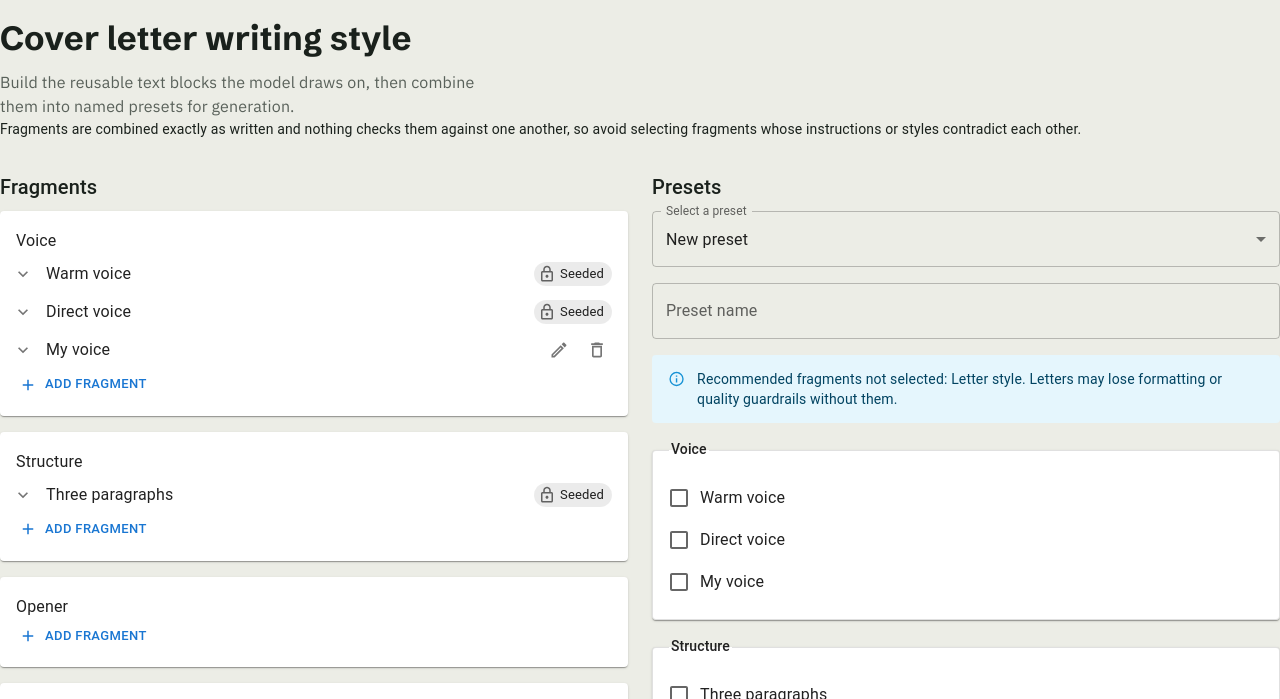
it: WritingStylePage › disables Save when a seeded preset is selected
Expected: the 1st text "Warm voice" is shown, [46,264,131,283]
Press the mouse on the dropdown: x=707, y=239 [666,230,748,249]
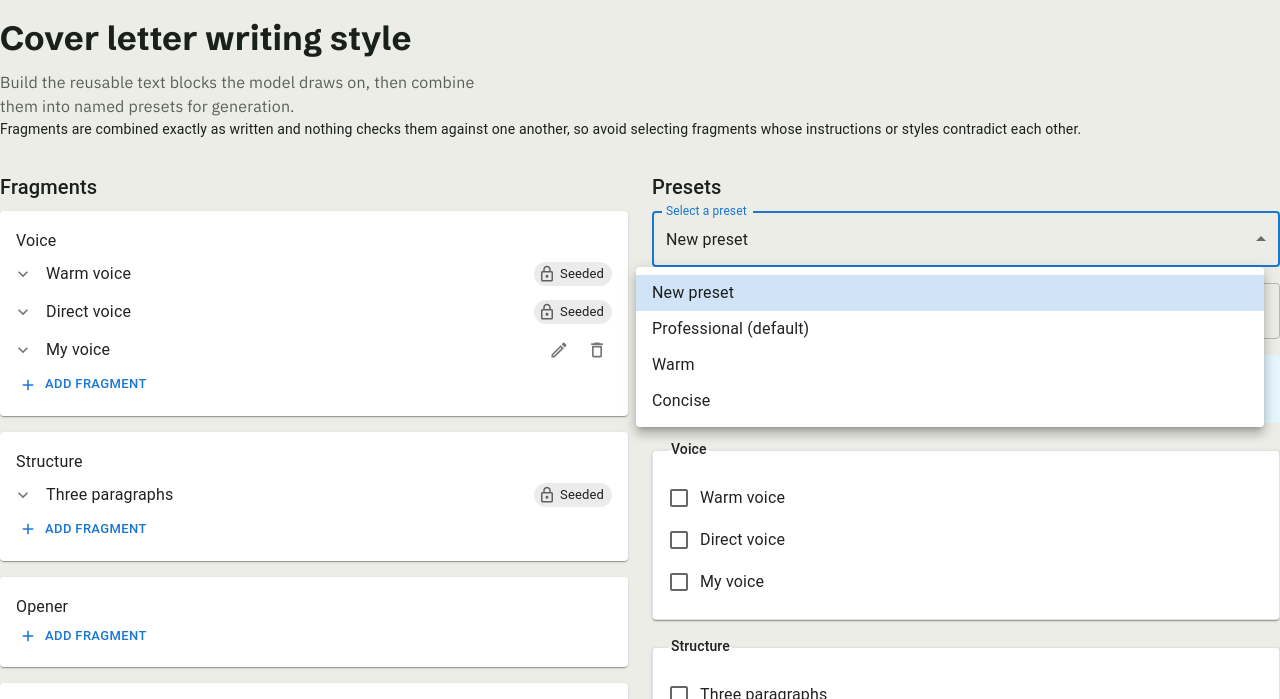
Click the option "Professional (default)": x=731, y=328 [652,319,809,338]
(page scrolled)
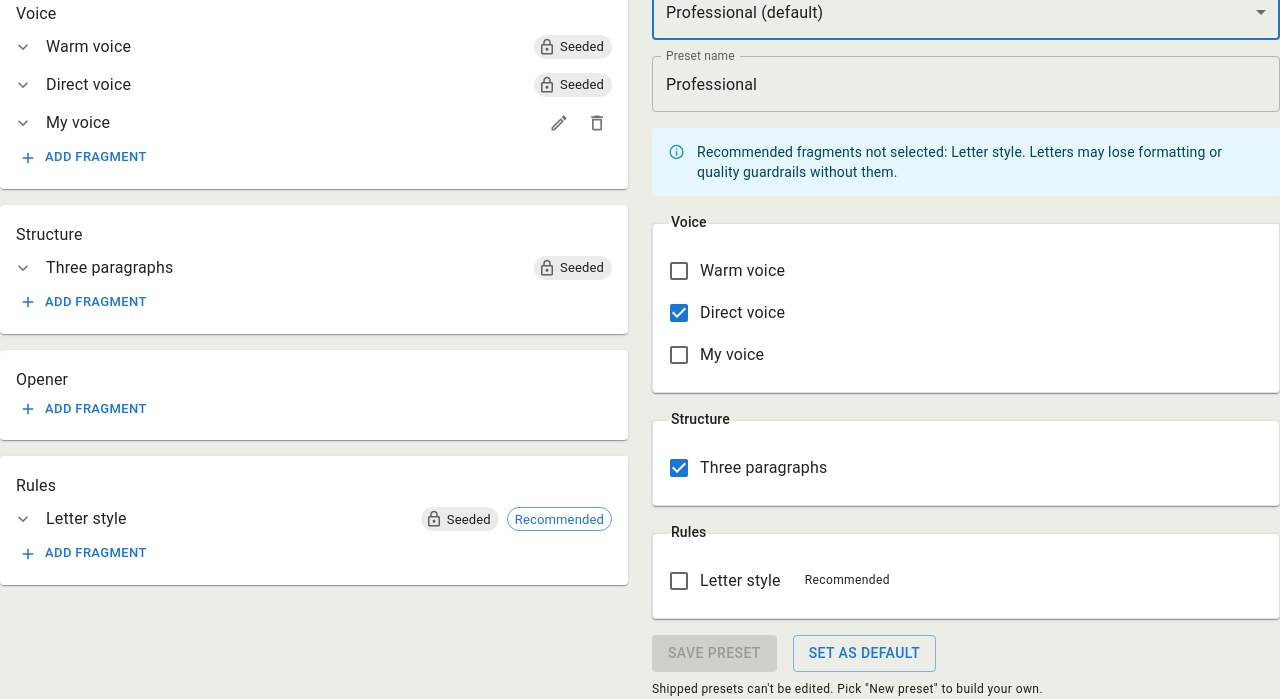
Expected: the button "Save preset" is disabled, [652,635,777,672]
Expected: the text "Shipped presets can't be edited" is shown, [652,682,1043,696]
